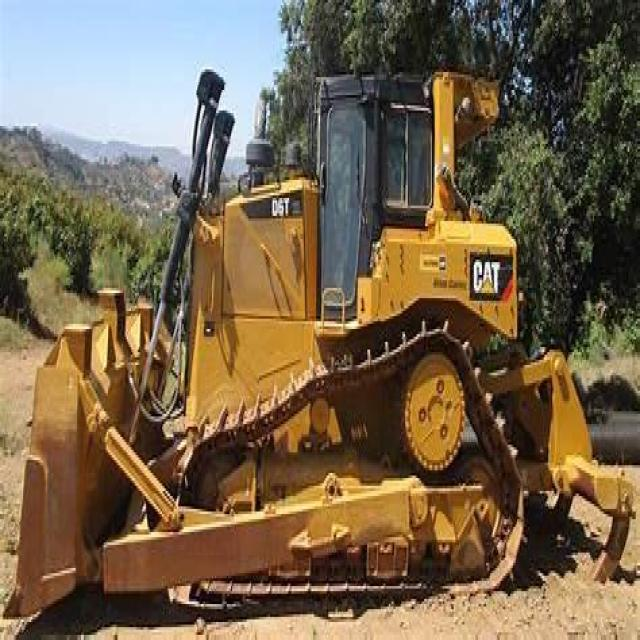buldozerpayloadergrader: (16, 41, 621, 625)
